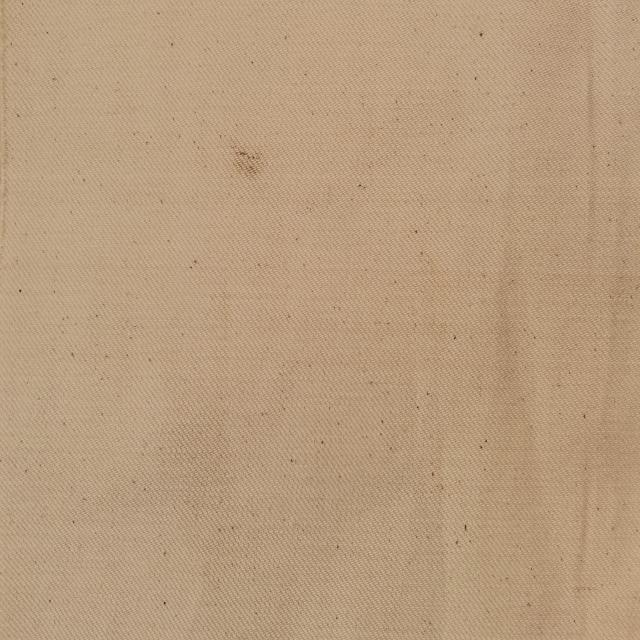taaaches: (229, 125, 272, 193)
